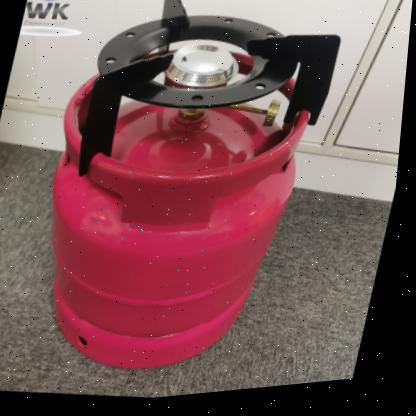gas-tank: (0, 12, 364, 413)
